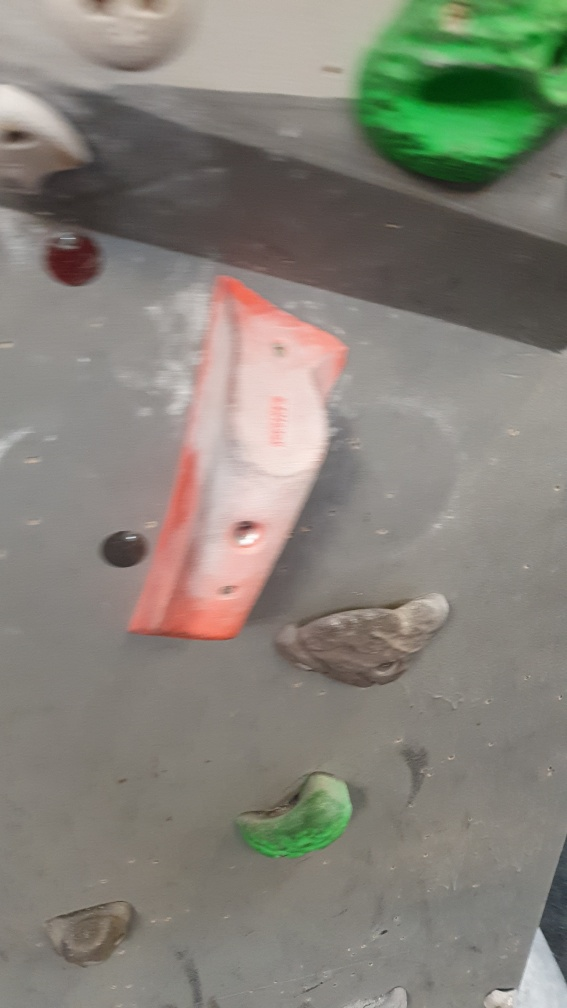Hand Start: (40, 226, 110, 296), (98, 526, 151, 571)
Jug: (271, 590, 455, 697), (231, 761, 359, 863)
Pinch: (123, 272, 353, 650)
